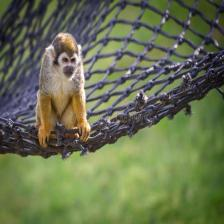monkey: (32, 29, 94, 149)
